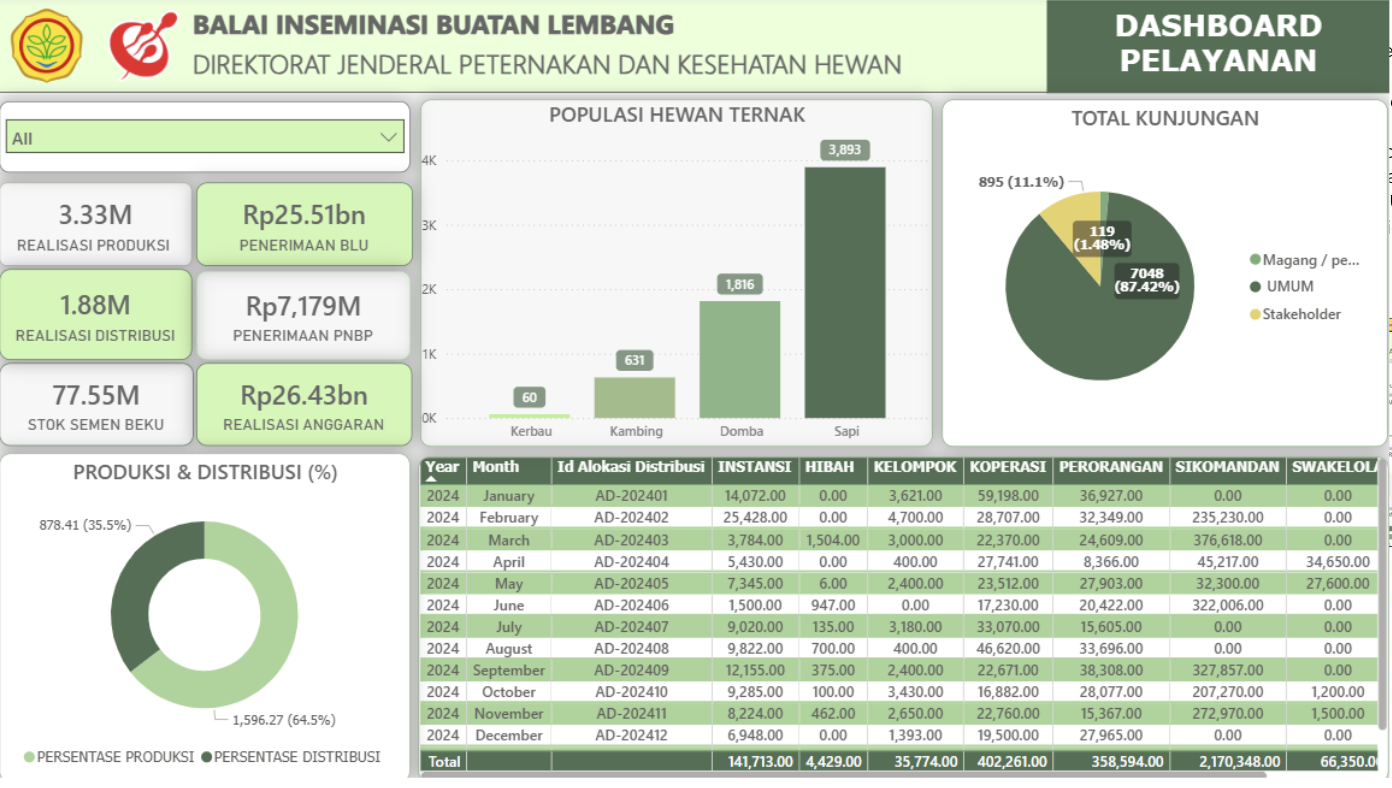

This screenshot's page, from the dashboard's own definition file:
{"tool":"powerbi","page":{"name":"Dashboard Pelayanan","canvas":[1280,720],"ordinal":0},"visuals":[{"type":"shape","box":[0,0,1278.3,88.3],"z":0},{"type":"image","box":[86.9,0,92.6,86.9],"z":1000},{"type":"textbox","box":[179.5,7.6,480,35.9],"z":2000},{"type":"image","box":[0,0,86.1,86.1],"z":3000},{"type":"textbox","box":[178.9,44.7,816.6,43.1],"z":4000},{"type":"textbox","box":[961.7,0,315,88.3],"z":5000},{"type":"card","fields":{"Values":["Sum(fakta_produksi_semen.Realisasi)"]},"box":[1.7,170,176.7,76.7],"z":6000},{"type":"card","fields":{"Values":["Sum(fakta_disribusi_semen.Stok Semen)"]},"box":[2,336,178,76],"z":7000},{"type":"tableEx","fields":{"Values":["fakta_alokasi_distribusi.Tahun.Variation.Date Hierarchy.Year","fakta_alokasi_distribusi.Tahun.Variation.Date Hierarchy.Month","fakta_alokasi_distribusi.Id Alokasi Distribusi","Sum(fakta_alokasi_distribusi.INSTANSI)","Sum(fakta_alokasi_distribusi.HIBAH)","Sum(fakta_alokasi_distribusi.KELOMPOK)","Sum(fakta_alokasi_distribusi.KOPERASI)","Sum(fakta_alokasi_distribusi.PERORANGAN)","Sum(fakta_alokasi_distribusi.SIKOMANDAN)","Sum(fakta_alokasi_distribusi.SWAKELOLA)","Sum(fakta_alokasi_distribusi.JUMLAH)"]},"box":[386.7,421.7,890,298.3],"z":8000},{"type":"lineStackedColumnComboChart","title":"POPULASI HEWAN TERNAK","fields":{"Category":["fakta_struktur_populasi.Kategori"],"Y":["Sum(fakta_struktur_populasi.Populasi Akhir)"]},"box":[388.3,95,470,318.3],"z":9000},{"type":"pieChart","title":"TOTAL KUNJUNGAN","fields":{"Y":["Sum(fakta_kunjungan.Magang / penelitian / PKL)","Sum(fakta_kunjungan.UMUM)","Sum(fakta_kunjungan.STAKEHOLDER)"]},"box":[866.7,95,408.3,318.3],"z":10000},{"type":"slicer","fields":{"Values":["dimensi_waktu.tahun.Variation.Date Hierarchy.Year","dimensi_waktu.tahun.Variation.Date Hierarchy.Month"]},"box":[1.7,96.7,376.7,65],"z":11000},{"type":"card","fields":{"Values":["Sum(fakta_disribusi_semen.Realisasi Distribusi)"]},"box":[1.7,250,176.7,83.3],"z":12000},{"type":"card","fields":{"Values":["Sum(fakta_kinerja_keuangan.Penerimaan BLU)"]},"box":[181.7,170,198.3,76.7],"z":13000},{"type":"card","fields":{"Values":["Sum(fakta_kinerja_keuangan.Penerimaan PNBP)"]},"box":[181.7,251.7,196.7,81.7],"z":14000},{"type":"card","fields":{"Values":["Sum(fakta_kinerja_keuangan.Realisasi Anggaran)"]},"box":[182,336,198,76],"z":15000},{"type":"donutChart","title":"PRODUKSI & DISTRIBUSI (%)","fields":{"Y":["Sum(fakta_produksi_semen.Persentase)","Sum(fakta_disribusi_semen.Persentase)"]},"box":[1.7,418.3,376.7,301.7],"z":16000}]}

Visuals, with their boxes in screenshot pixels (x1, y1, x2, y2), scaled from the page's 1280x720 canvas onto the 1392x788 screenshot:
shape: {"left": 0, "top": 0, "right": 1390, "bottom": 97}
image: {"left": 95, "top": 0, "right": 195, "bottom": 95}
textbox: {"left": 195, "top": 8, "right": 717, "bottom": 48}
image: {"left": 0, "top": 0, "right": 94, "bottom": 94}
textbox: {"left": 195, "top": 49, "right": 1083, "bottom": 96}
textbox: {"left": 1046, "top": 0, "right": 1388, "bottom": 97}
card - Sum(fakta_produksi_semen.Realisasi): {"left": 2, "top": 186, "right": 194, "bottom": 270}
card - Sum(fakta_disribusi_semen.Stok Semen): {"left": 2, "top": 368, "right": 196, "bottom": 451}
tableEx - fakta_alokasi_distribusi.Tahun.Variation.Date Hierarchy.Year x fakta_alokasi_distribusi.Tahun.Variation.Date Hierarchy.Month: {"left": 421, "top": 462, "right": 1388, "bottom": 787}
"POPULASI HEWAN TERNAK" lineStackedColumnComboChart: {"left": 422, "top": 104, "right": 933, "bottom": 452}
"TOTAL KUNJUNGAN" pieChart: {"left": 943, "top": 104, "right": 1387, "bottom": 452}
slicer - dimensi_waktu.tahun.Variation.Date Hierarchy.Year x dimensi_waktu.tahun.Variation.Date Hierarchy.Month: {"left": 2, "top": 106, "right": 412, "bottom": 177}
card - Sum(fakta_disribusi_semen.Realisasi Distribusi): {"left": 2, "top": 274, "right": 194, "bottom": 365}
card - Sum(fakta_kinerja_keuangan.Penerimaan BLU): {"left": 198, "top": 186, "right": 413, "bottom": 270}
card - Sum(fakta_kinerja_keuangan.Penerimaan PNBP): {"left": 198, "top": 275, "right": 412, "bottom": 365}
card - Sum(fakta_kinerja_keuangan.Realisasi Anggaran): {"left": 198, "top": 368, "right": 413, "bottom": 451}
"PRODUKSI & DISTRIBUSI (%)" donutChart: {"left": 2, "top": 458, "right": 412, "bottom": 787}
